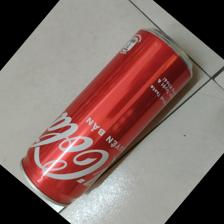Coca: (21, 27, 194, 208)
